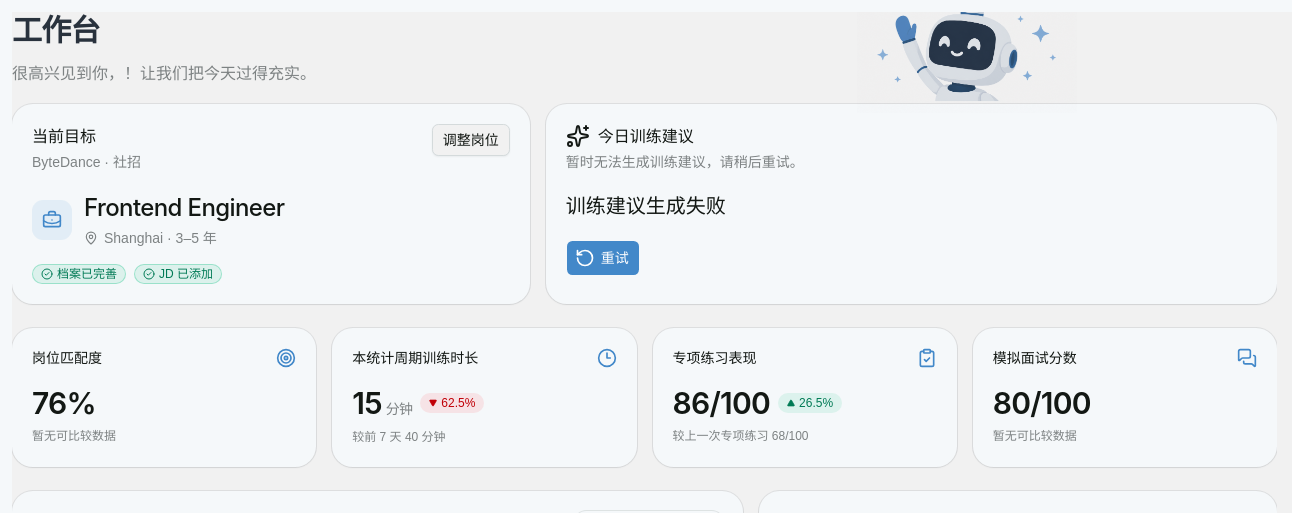
it: Dashboard Planner integration › retries a failed plan with a new request id
Step 1. Click the button "重试" → click(603, 258), box [566,240,640,276]
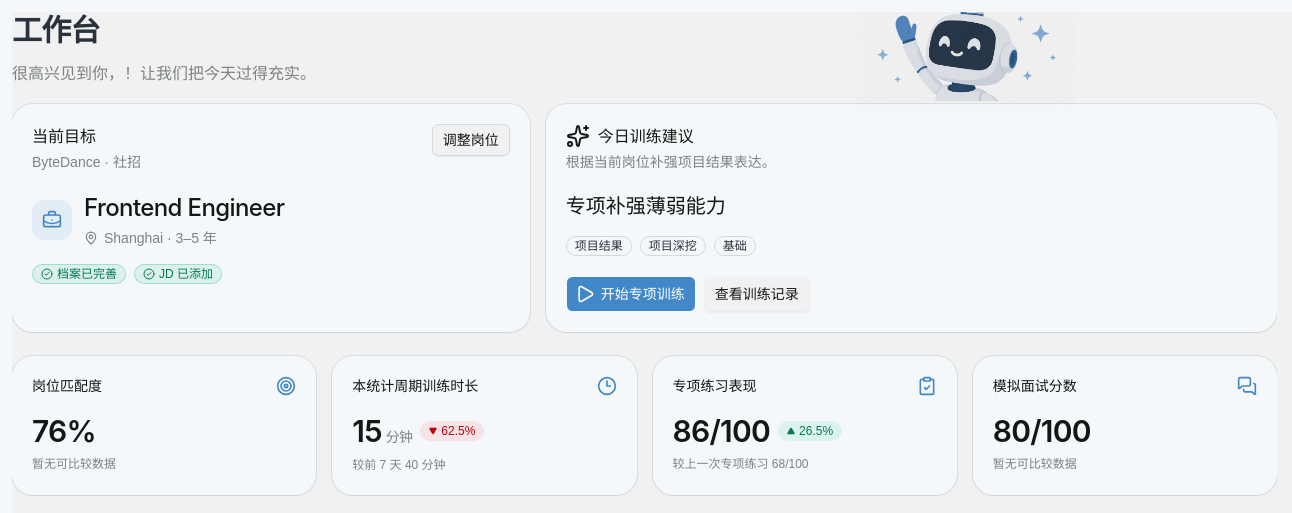
Check: the text "根据当前岗位补强项目结果表达。" is shown, box [566,154,776,170]
